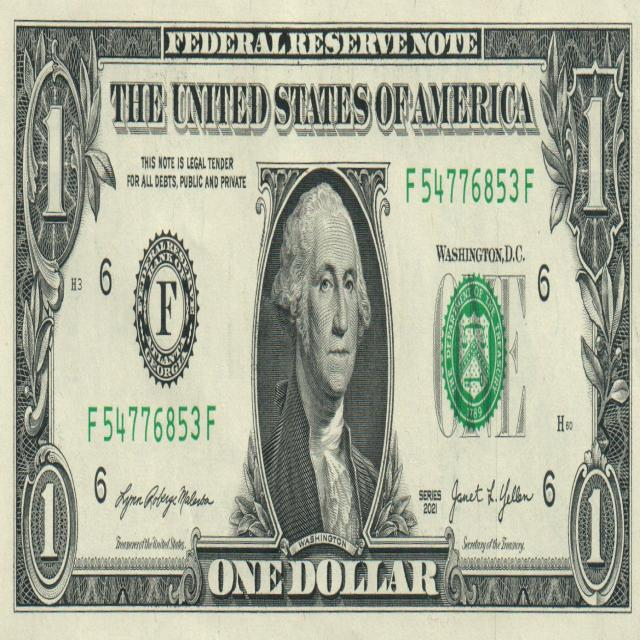SerialNumber: (89, 406, 215, 442), (407, 168, 533, 203)
